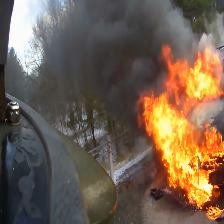fire: (138, 45, 224, 219)
